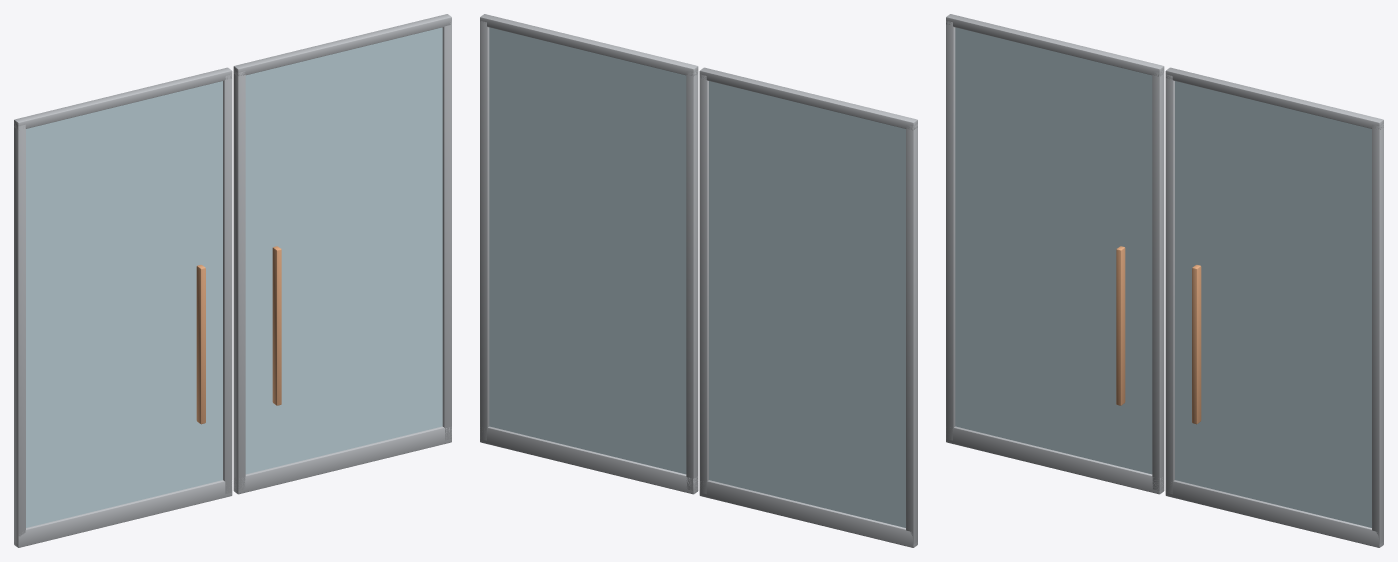
Rendered from entrance.glb.
3 views of the same model, side by side, from view 1: azimuth 30°, elevation 25°; view 2: azimuth 150°, elevation 25°; view 3: azimuth 330°, elevation 25° (orthographic).
Visible parts, largest first — view 1: Cube, Cube.006; view 2: Cube, Cube.006; view 3: Cube, Cube.006.
Boxes of the visible parts, x1=… form: Cube: x1=14, y1=67, x2=232, y2=547; Cube.006: x1=233, y1=14, x2=451, y2=494; Cube: x1=699, y1=67, x2=917, y2=547; Cube.006: x1=480, y1=14, x2=698, y2=494; Cube: x1=946, y1=14, x2=1164, y2=494; Cube.006: x1=1165, y1=67, x2=1383, y2=547.
Bounding box in the file's own units: 3.2 × 3 × 0.1399.
